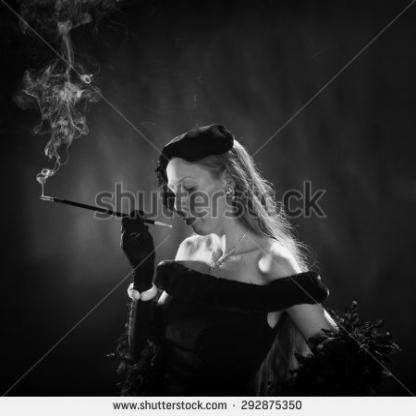person: (128, 124, 320, 402)
smoke: (17, 76, 98, 152), (47, 0, 118, 33)
